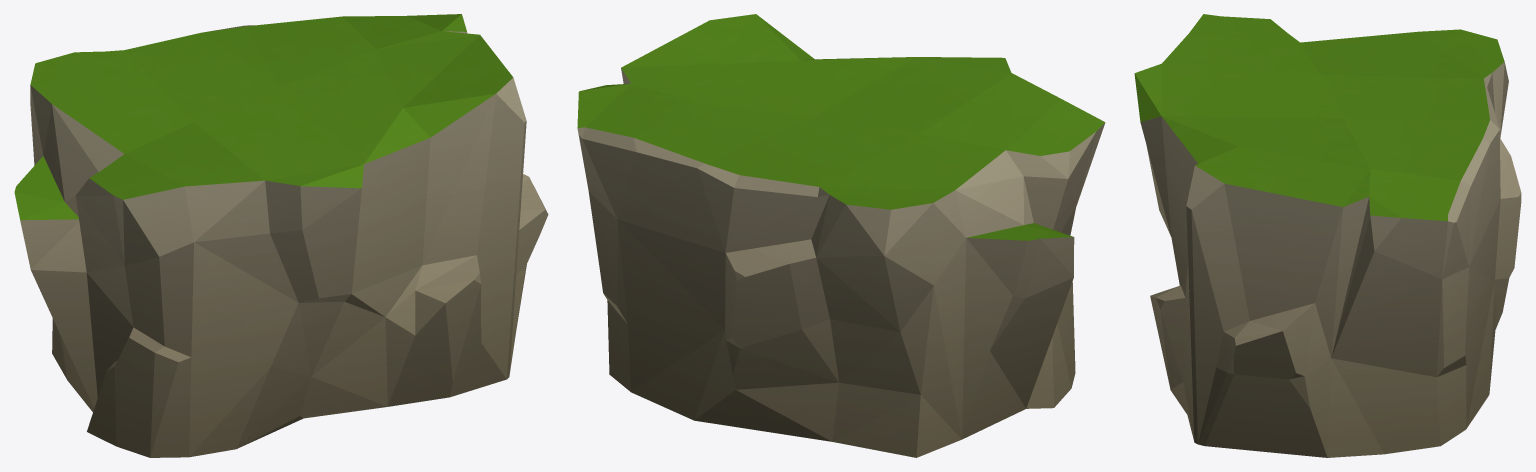
File: Rock_BigGrass_02.fbx
3 views of the same model, side by side, from view 1: azimuth 30°, elevation 25°; view 2: azimuth 150°, elevation 25°; view 3: azimuth 270°, elevation 25° (orthographic). The views are drawn at different scales.
Visible parts, largest first — view 1: Rock_BigGrass_02; view 2: Rock_BigGrass_02; view 3: Rock_BigGrass_02.
Boxes of the visible parts, left/top/right/bottom form: Rock_BigGrass_02: left=14, top=14, right=548, bottom=457; Rock_BigGrass_02: left=577, top=14, right=1105, bottom=457; Rock_BigGrass_02: left=1134, top=14, right=1521, bottom=457.
Size of the model in its own units: 2887 by 1661 by 2119.
